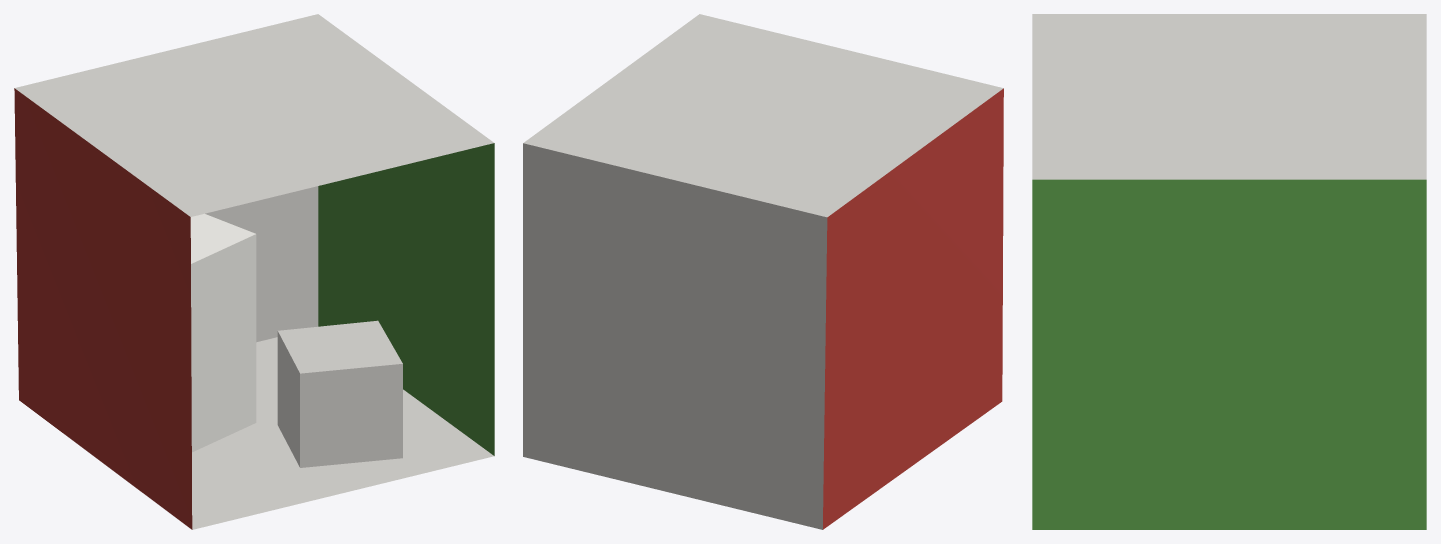
The model's file is silver-mirror.gltf.
The picture shows the model from 3 angles, left to right: view 1: azimuth 30°, elevation 25°; view 2: azimuth 150°, elevation 25°; view 3: azimuth 270°, elevation 25°; orthographic projection. The views are drawn at different scales.
Visible parts, largest first — view 1: Object_5, Object_3, Object_7, Object_4, Object_8, Object_9, Object_2; view 2: Object_2, Object_5, Object_3; view 3: Object_7, Object_3.
Part boxes in pixels (x1=…): Object_5: x1=14, y1=88, x2=192, y2=529; Object_3: x1=15, y1=14, x2=493, y2=216; Object_7: x1=318, y1=143, x2=494, y2=455; Object_4: x1=192, y1=337, x2=493, y2=529; Object_8: x1=277, y1=320, x2=402, y2=467; Object_9: x1=190, y1=213, x2=256, y2=452; Object_2: x1=205, y1=186, x2=318, y2=342; Object_2: x1=523, y1=143, x2=827, y2=529; Object_5: x1=823, y1=88, x2=1003, y2=529; Object_3: x1=523, y1=14, x2=1003, y2=217; Object_7: x1=1032, y1=179, x2=1426, y2=529; Object_3: x1=1032, y1=14, x2=1426, y2=179.
Bounding box in the file's own units: 2.02 × 1.99 × 2.03.
